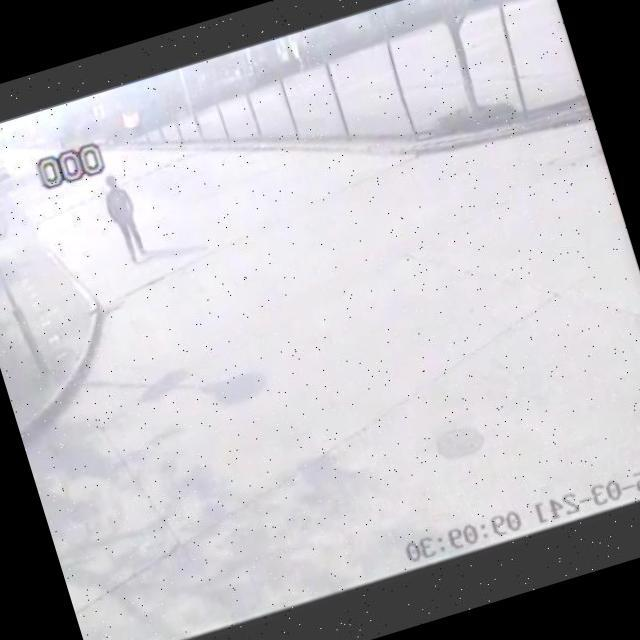person: (94, 164, 154, 272)
